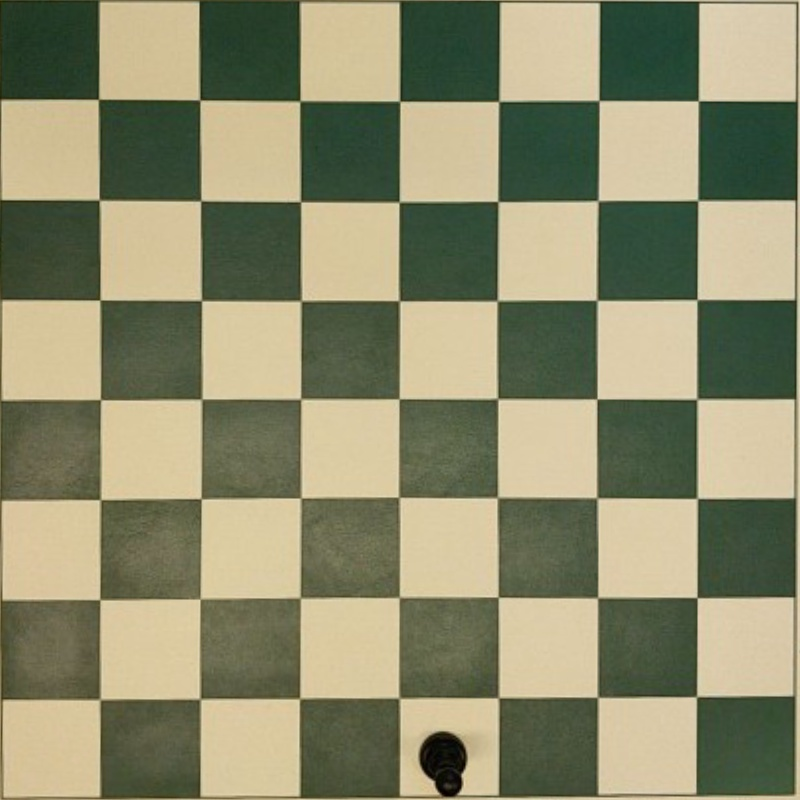black-pawn: (418, 731, 469, 797)
